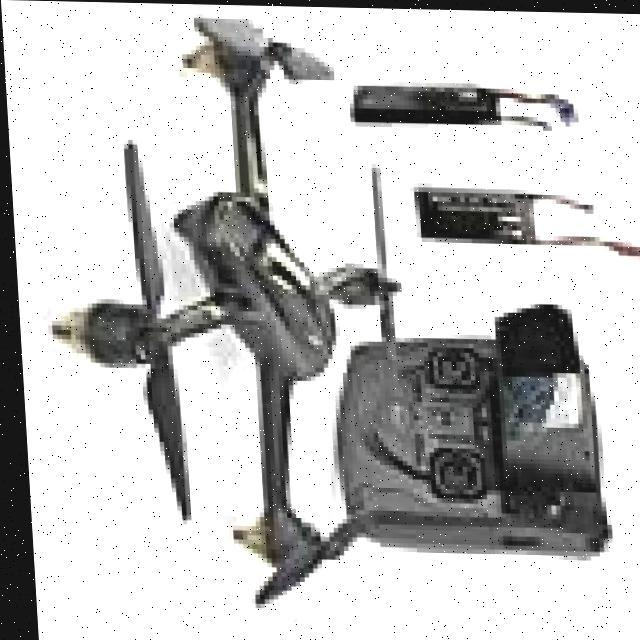drone: (17, 14, 408, 629)
